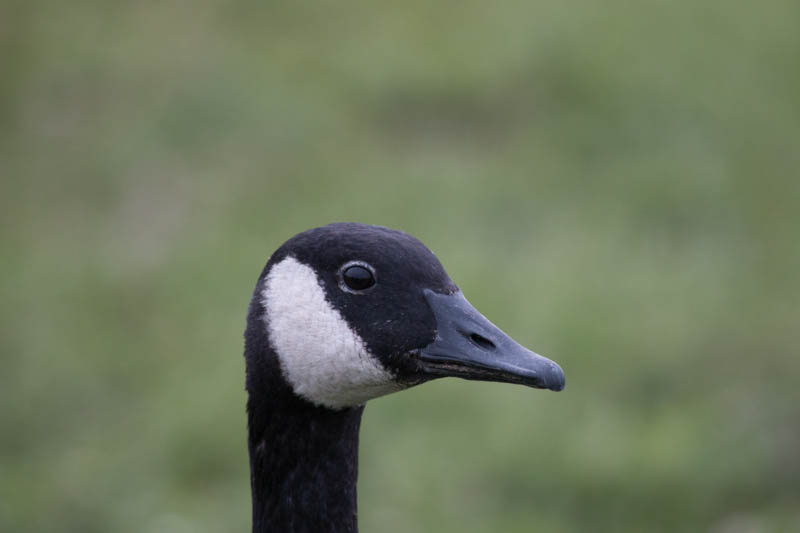goose-head: (244, 223, 567, 410)
